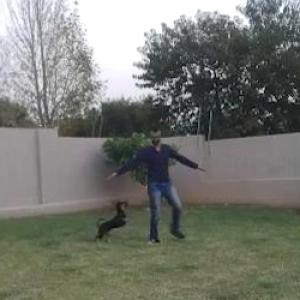land: (98, 126, 186, 230)
